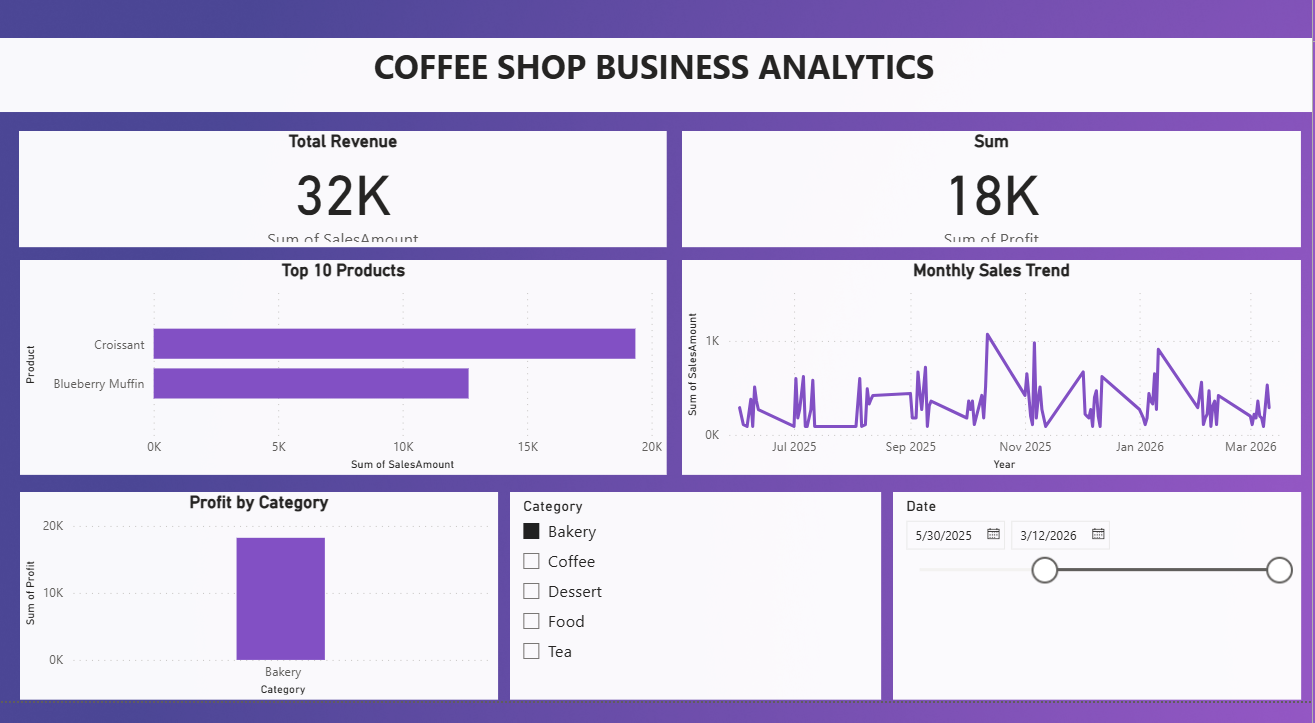

Layout of this report page (visuals, bound fields, positions):
{"tool":"powerbi","page":{"name":"Page 1","canvas":[1280,720],"ordinal":0},"visuals":[{"type":"card","title":"Total Revenue","fields":{"Values":["Sum(sales_with_revenue.SalesAmount)"]},"box":[22.4,165.3,630.3,112.8],"z":0},{"type":"card","title":"Sum","fields":{"Values":["Sum(sales_with_revenue.Profit)"]},"box":[667.2,165.3,602.1,112.8],"z":1000},{"type":"barChart","title":"Top 10 Products","fields":{"Category":["sales_with_revenue.Product"],"Y":["Sum(sales_with_revenue.SalesAmount)"]},"box":[23.3,290.8,629.3,209.1],"z":3000},{"type":"lineChart","title":"Monthly Sales Trend","fields":{"Category":["sales_with_revenue.Date.Variation.Date Hierarchy.Year","sales_with_revenue.Date.Variation.Date Hierarchy.Quarter","sales_with_revenue.Date.Variation.Date Hierarchy.Month","sales_with_revenue.Date.Variation.Date Hierarchy.Day"],"Y":["Sum(sales_with_revenue.SalesAmount)"]},"box":[667.2,290.8,602.1,209.1],"z":4000},{"type":"clusteredColumnChart","title":"Profit by Category","fields":{"Category":["sales_with_revenue.Category"],"Y":["Sum(sales_with_revenue.Profit)"]},"box":[23.3,516.5,464.9,202.3],"z":5000},{"type":"textbox","box":[0,74.9,1280,72],"z":5001},{"type":"slicer","fields":{"Values":["sales_with_revenue.Category"]},"box":[499.9,516.5,360.9,202.3],"z":5002},{"type":"slicer","fields":{"Values":["sales_with_revenue.Date"]},"box":[872.5,516.5,396.8,202.3],"z":5003}]}

Visuals, with their boxes in screenshot pixels (x1, y1, x2, y2), scaled from the page's 1280x720 canvas onto the 1315x723 screenshot:
"Total Revenue" card: [x1=23, y1=166, x2=671, y2=279]
"Sum" card: [x1=685, y1=166, x2=1304, y2=279]
"Top 10 Products" barChart: [x1=24, y1=292, x2=670, y2=502]
"Monthly Sales Trend" lineChart: [x1=685, y1=292, x2=1304, y2=502]
"Profit by Category" clusteredColumnChart: [x1=24, y1=519, x2=502, y2=722]
textbox: [x1=0, y1=75, x2=1314, y2=148]
slicer - sales_with_revenue.Category: [x1=514, y1=519, x2=884, y2=722]
slicer - sales_with_revenue.Date: [x1=896, y1=519, x2=1304, y2=722]
